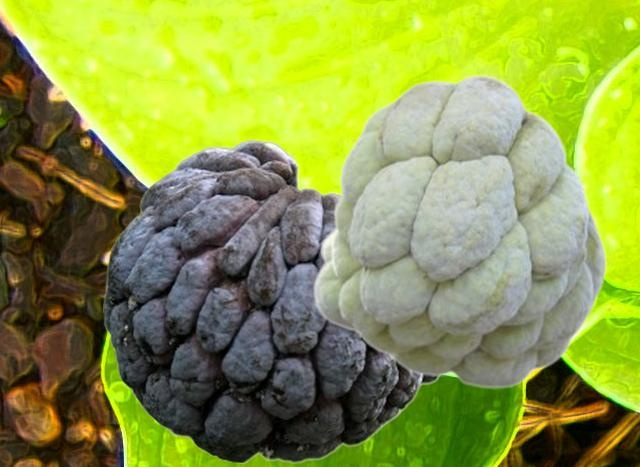atis: (103, 138, 443, 462), (312, 73, 606, 388)
